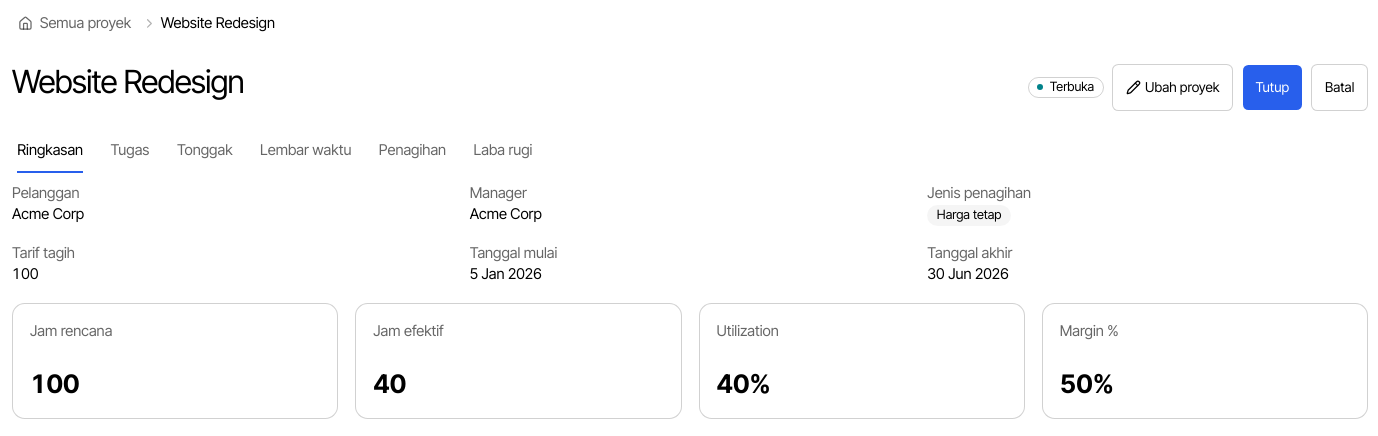
Test: ProjectDetail remainder › shows task deadlines and opens the edit task dialog
The image size is (1378, 436).
Expected: the heading "Website Redesign" is shown, [12,64,244,100]
Click the tab "Tugas" at (130, 151), box [110,128,150,174]
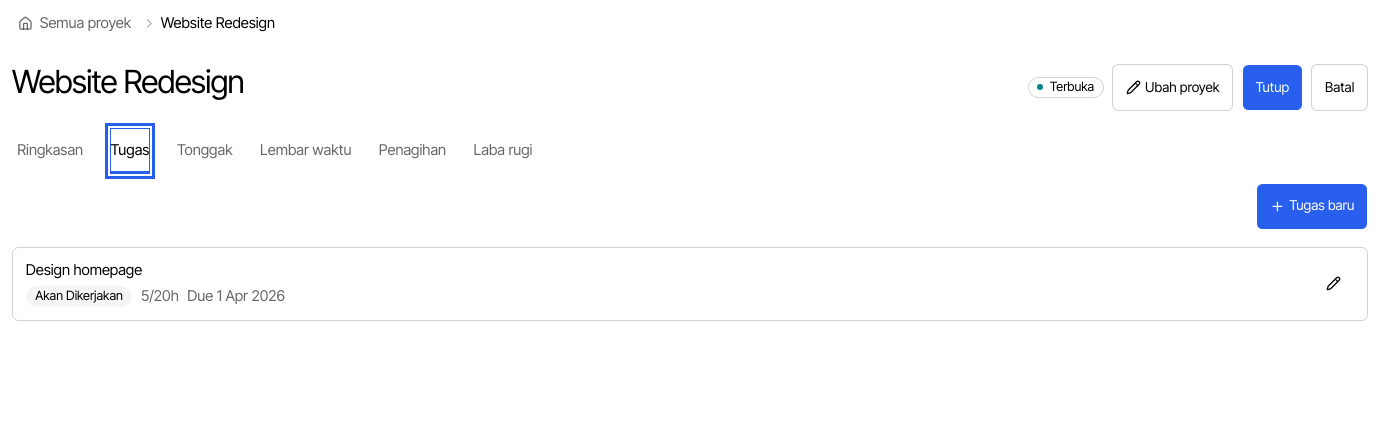
Now the text "Design homepage" is shown, box [26,261,142,279]
Now the text "Due 1 Apr 2026" is shown, box [187,286,285,307]
